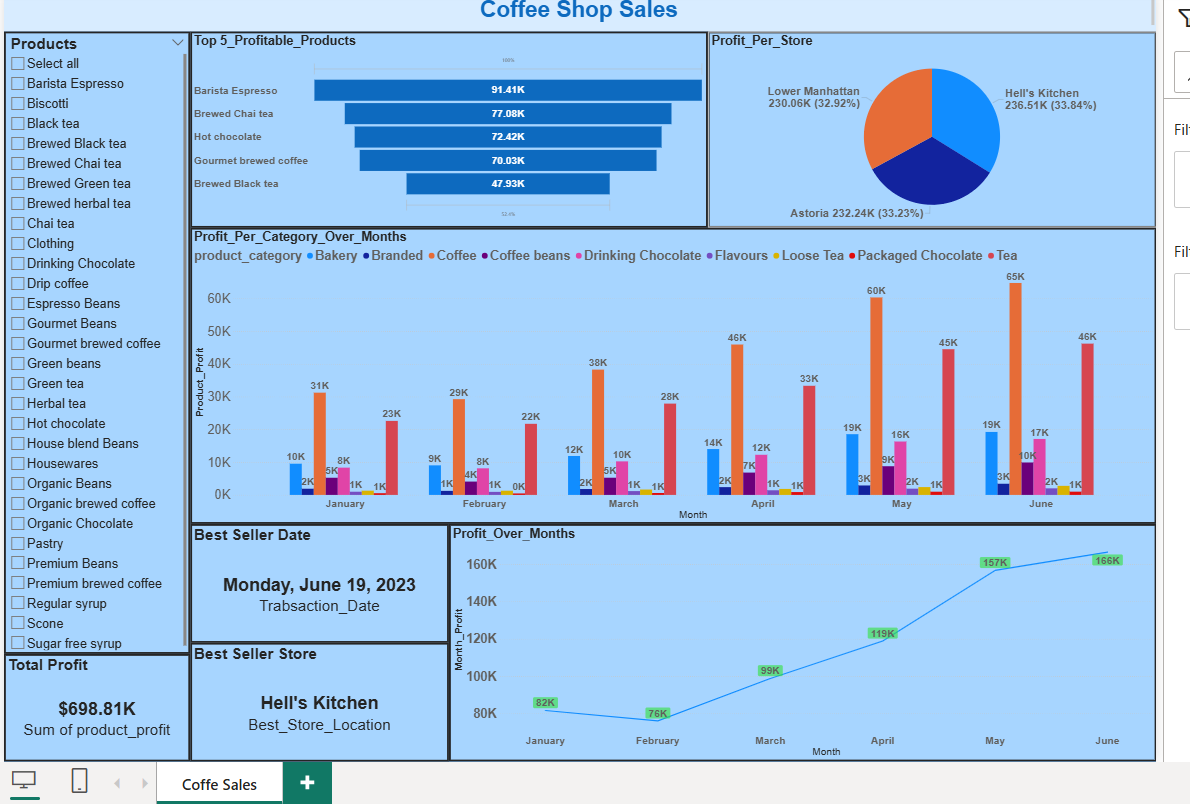

The dashboard page shown, as its layout file describes it:
{"tool":"powerbi","page":{"name":"Coffe Sales","canvas":[3000,2000],"ordinal":0},"visuals":[{"type":"textbox","box":[0,0,3001.3,97.7],"z":0},{"type":"slicer","fields":{"Values":["Transactions.product_type"]},"box":[0,97.7,485,1621.1],"z":1000},{"type":"clusteredColumnChart","title":"Profit_Per_Category_Over_Months","fields":{"Category":["Transactions.transaction_date.Variation.Date Hierarchy.Month"],"Y":["Sum(Transactions.product_profit)"],"Series":["Transactions.product_category"]},"box":[485,608.7,2516.3,771.5],"z":2000},{"type":"pieChart","title":"Profit_Per_Store","fields":{"Y":["Sum(Transactions.product_profit)"],"Category":["Transactions.store_location"]},"box":[1832.7,97.7,1168.6,511.1],"z":3000},{"type":"card","title":"Total Profit","fields":{"Values":["Sum(Transactions.product_profit)"]},"box":[0,1718.8,485,280],"z":4000},{"type":"funnel","title":"Top 5_Profitable_Products","fields":{"Category":["Transactions.product_type"],"Y":["Sum(Transactions.product_profit)"]},"box":[485,97.7,1347.7,511.1],"z":5000},{"type":"card","title":"Best Seller Date","fields":{"Values":["Min(Transactions.transaction_date)"]},"box":[485,1380.2,673.8,309.2],"z":6000},{"type":"card","title":"Best Seller Store","fields":{"Values":["Min(Transactions.store_location)"]},"box":[485,1689.5,673.8,309.2],"z":7000},{"type":"lineChart","title":"Profit_Over_Months","fields":{"Category":["Transactions.transaction_date.Variation.Date Hierarchy.Month"],"Y":["Sum(Transactions.product_profit)"]},"box":[1158.9,1380.2,1842.5,618.5],"z":8000}]}

Visuals, with their boxes in screenshot pixels (x1, y1, x2, y2):
textbox: rect(3, 0, 1136, 34)
slicer - Transactions.product_type: rect(3, 34, 186, 645)
"Profit_Per_Category_Over_Months" clusteredColumnChart: rect(186, 227, 1136, 518)
"Profit_Per_Store" pieChart: rect(695, 34, 1136, 227)
"Total Profit" card: rect(3, 645, 186, 751)
"Top 5_Profitable_Products" funnel: rect(186, 34, 695, 227)
"Best Seller Date" card: rect(186, 518, 440, 634)
"Best Seller Store" card: rect(186, 634, 440, 751)
"Profit_Over_Months" lineChart: rect(440, 518, 1136, 751)
